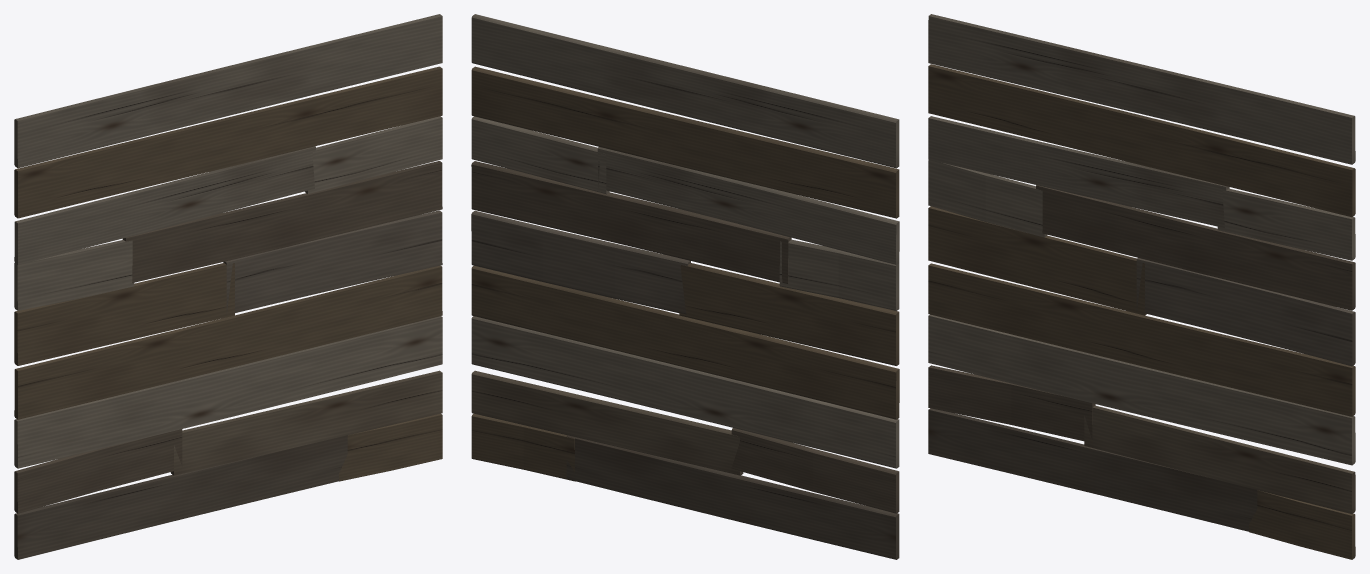
File: S7U_Rev_Planks_2m_A.fbx
3 renders of one model, left to right at view 1: azimuth 30°, elevation 25°; view 2: azimuth 150°, elevation 25°; view 3: azimuth 330°, elevation 25°, orthographic.
Parts seen in each view (by area): view 1: S7U_Rev_Planks_2m_A; view 2: S7U_Rev_Planks_2m_A; view 3: S7U_Rev_Planks_2m_A.
Boxes of the visible parts, x1=… form: S7U_Rev_Planks_2m_A: x1=14, y1=14, x2=442, y2=559; S7U_Rev_Planks_2m_A: x1=471, y1=14, x2=899, y2=559; S7U_Rev_Planks_2m_A: x1=928, y1=14, x2=1355, y2=559.
Bounding box in the file's own units: 2.04 × 2.03 × 0.041.
